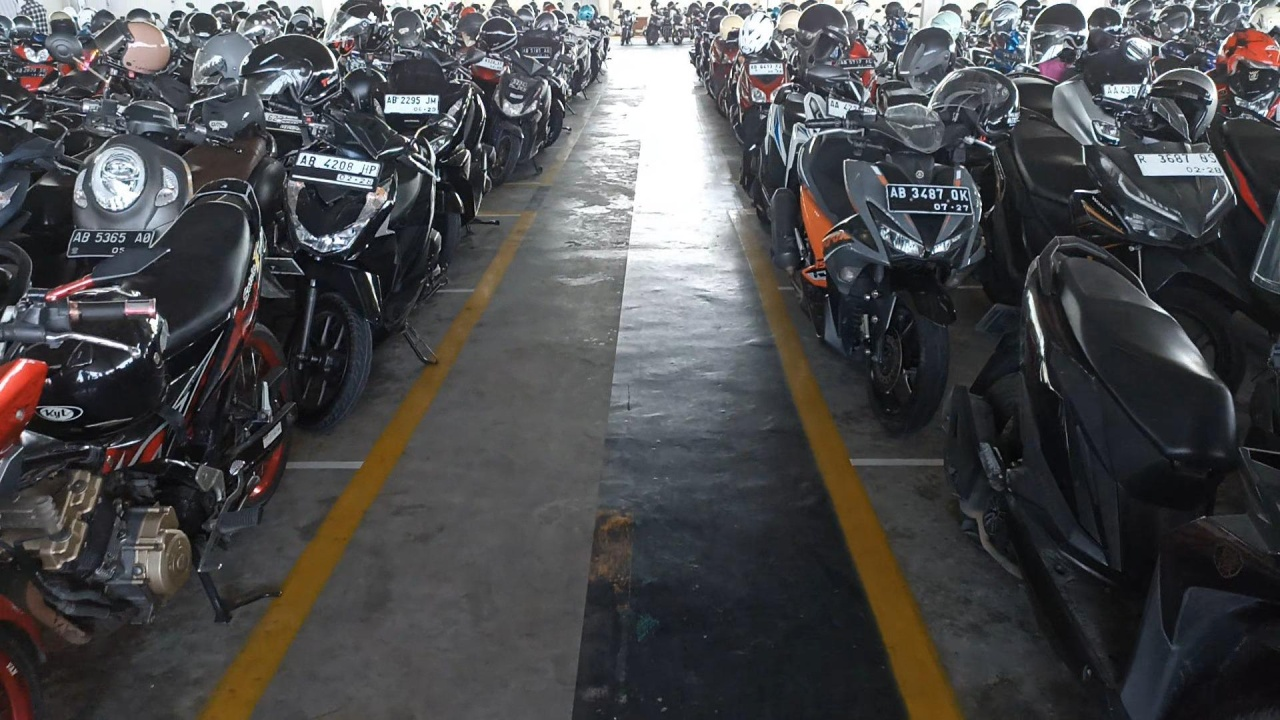plate: (290, 151, 382, 191), (887, 184, 973, 215), (1133, 152, 1226, 177), (384, 93, 439, 114)
